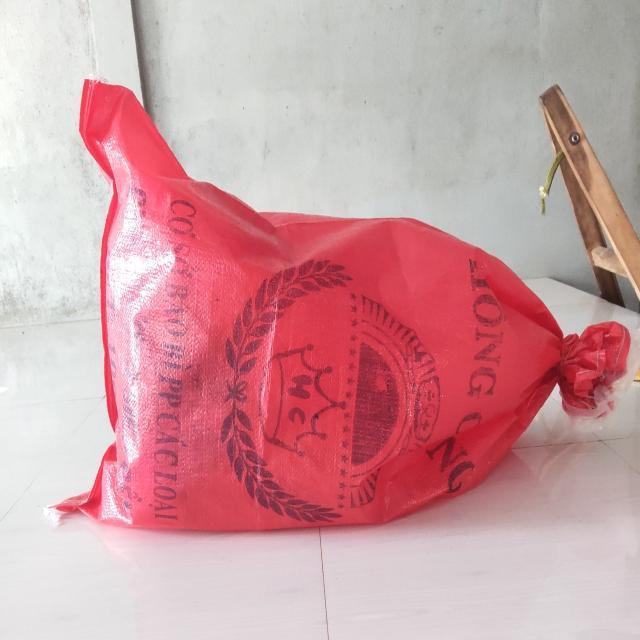gunny_bag: (54, 80, 632, 531)
